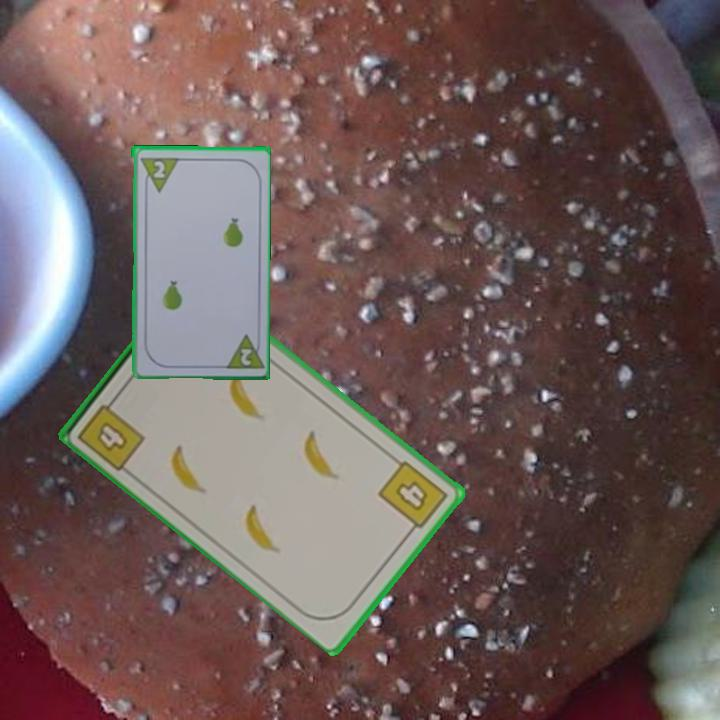2p: (149, 157, 168, 180), (237, 345, 254, 368)
4b: (374, 456, 451, 538), (74, 391, 149, 474)
